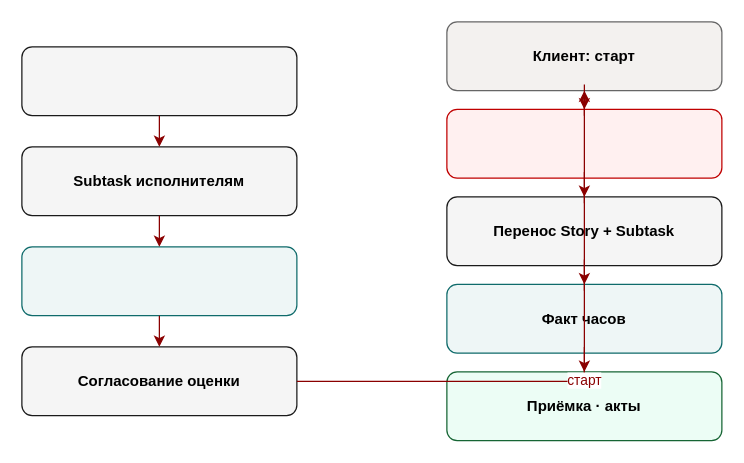
The diagram is 744 pixels wide and 463 high, and some of its shapes have lost their labels. The box of each missing label's shape, as (x1, y1, x2, y2) in pixels:
Epic (Реализация): (446, 108, 722, 178)
Story в Epic (Оценка): (21, 46, 297, 116)
Списание часов: (21, 246, 297, 316)
